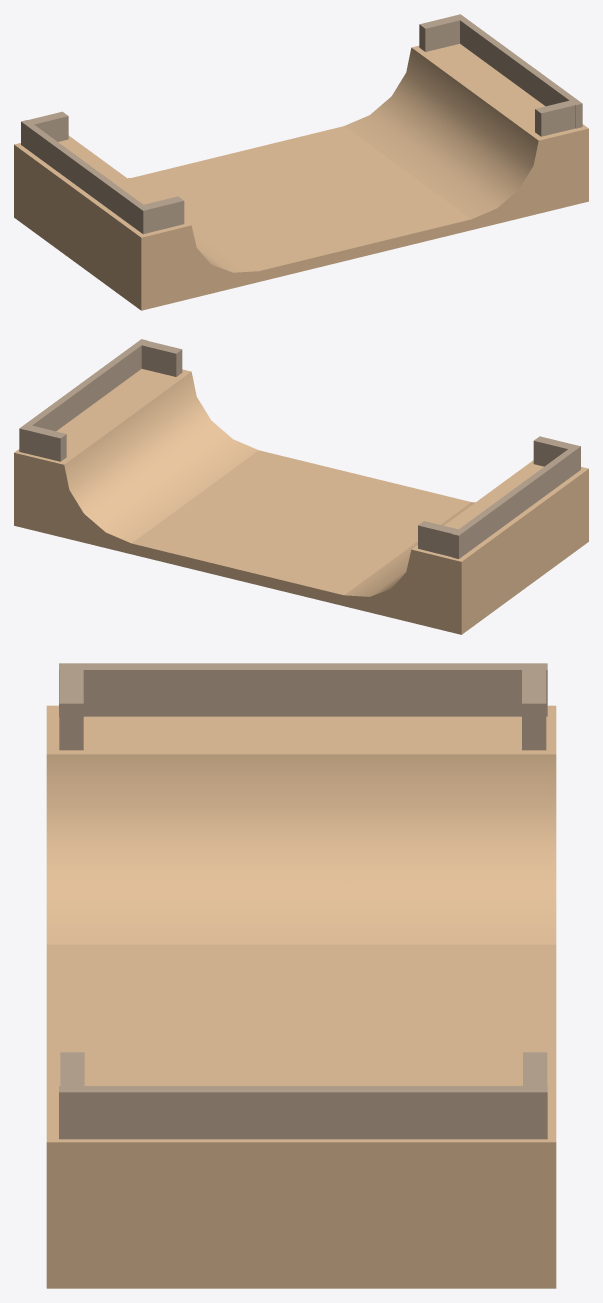
File: rampa20x10.fbx
The picture shows the model from 3 angles, top to bottom: view 1: azimuth 30°, elevation 25°; view 2: azimuth 150°, elevation 25°; view 3: azimuth 270°, elevation 25°; orthographic projection. The views are drawn at different scales.
Parts seen in each view (by area): view 1: pCube346; view 2: pCube346; view 3: pCube346.
Boxes of the visible parts, bbox=[...] form: pCube346: bbox=[14, 14, 588, 310]; pCube346: bbox=[14, 339, 588, 634]; pCube346: bbox=[46, 663, 556, 1288].
Bounding box in the file's own units: 19.94 × 4.11 × 9.83.
